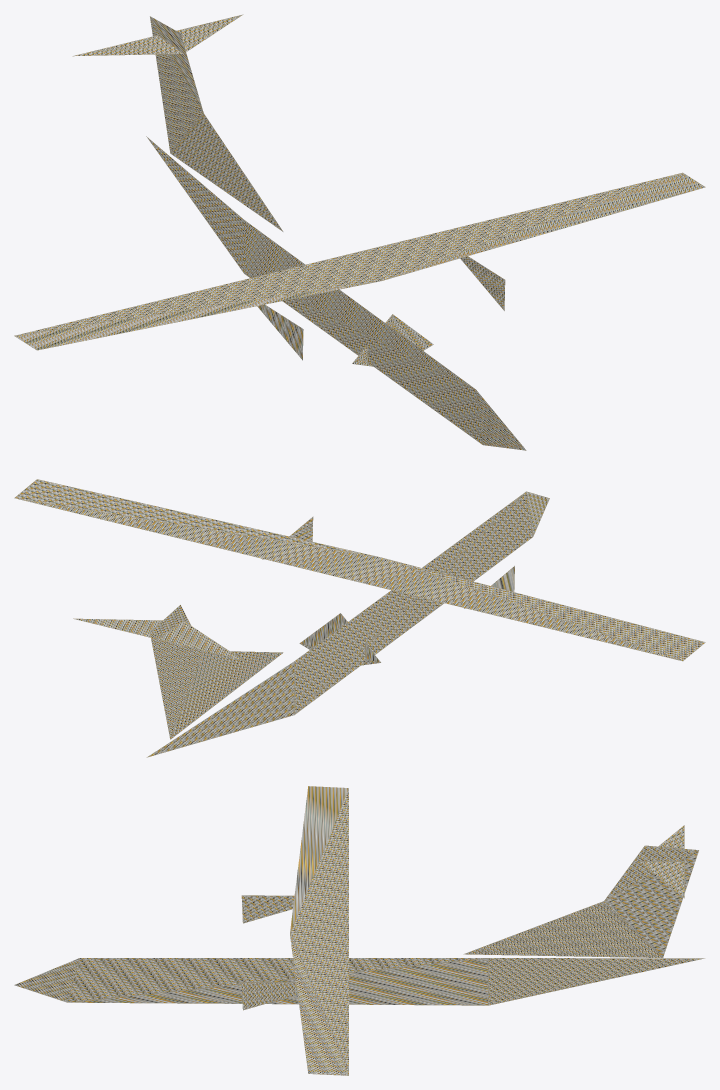
Rendered from OSP_ATR_72-500_MSFS_LOD1.gltf.
3 views of the same model, one above another, from view 1: azimuth 30°, elevation 25°; view 2: azimuth 150°, elevation 25°; view 3: azimuth 270°, elevation 25° (orthographic). The views are drawn at different scales.
Parts seen in each view (by area): view 1: node1; view 2: node1; view 3: node1.
Boxes of the visible parts, bbox=[...] form: node1: bbox=[14, 14, 705, 450]; node1: bbox=[14, 479, 705, 757]; node1: bbox=[14, 786, 704, 1075].
Size of the model in its own units: 26.7 by 6.89 by 27.12.
